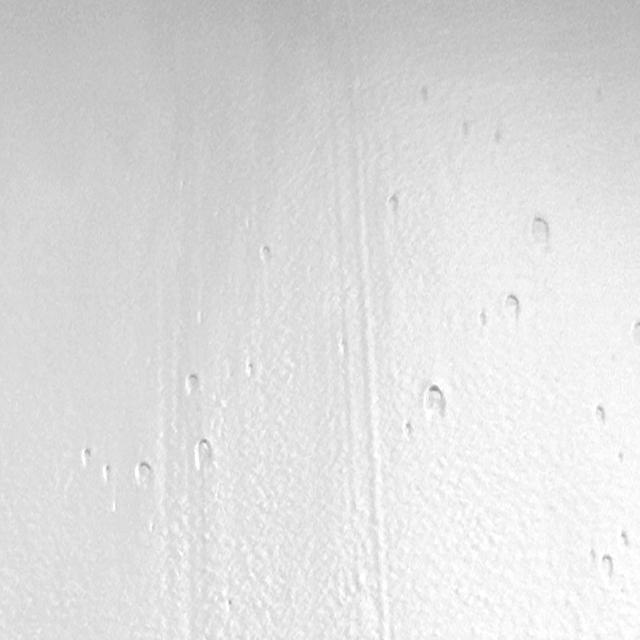pin holes: (526, 210, 554, 252), (419, 386, 448, 422), (194, 438, 218, 472), (135, 459, 158, 490), (502, 291, 524, 322), (182, 371, 203, 398), (589, 402, 609, 430), (382, 192, 402, 218), (412, 84, 432, 109), (256, 244, 275, 268), (455, 120, 474, 144), (616, 529, 633, 554), (77, 445, 93, 470), (240, 360, 258, 382), (488, 128, 506, 150), (601, 552, 615, 580), (472, 309, 487, 332), (628, 318, 640, 346), (100, 462, 114, 485), (401, 418, 414, 439), (223, 596, 236, 613), (613, 448, 625, 465), (588, 548, 596, 566)
